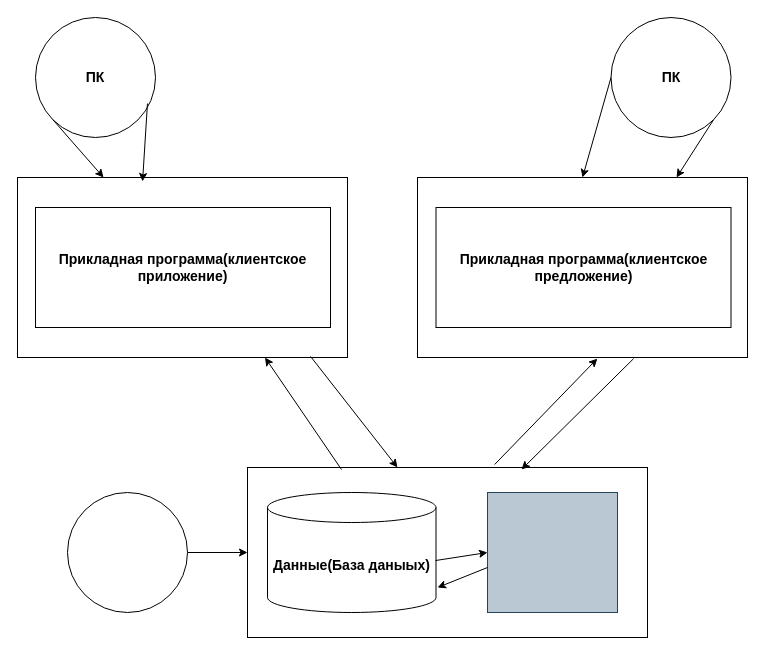
Some shapes in this 765 by 655 pixel diagram are drawn without their labels. Here are the shapes that lost their labels. From the top down, the box of each, then its label:
(66, 492, 188, 612): Сервер
(486, 492, 618, 612): СУБД
